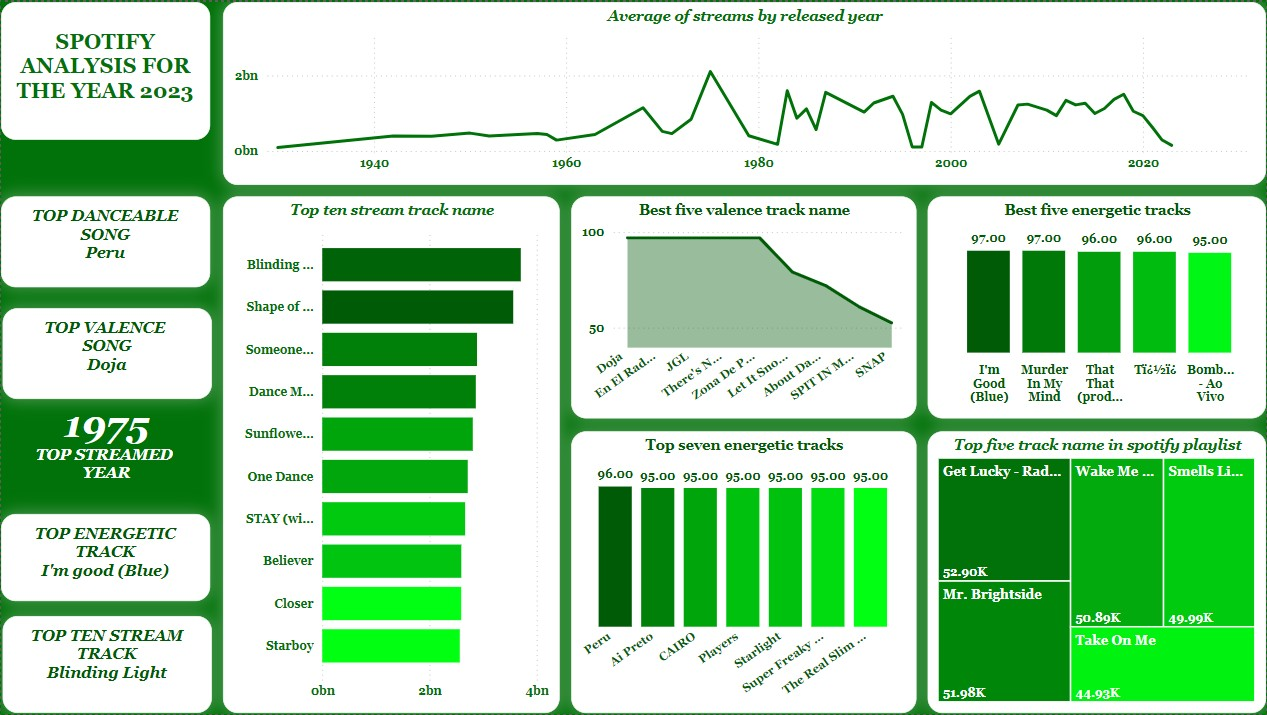

Layout of this report page (visuals, bound fields, positions):
{"tool":"powerbi","page":{"name":"Page 1","canvas":[1280,720],"ordinal":0},"visuals":[{"type":"lineChart","title":"Average of streams by released year","fields":{"Category":["spotify-2023.released_year"],"Y":["Avg(spotify-2023.streams)"]},"box":[224.6,0,1055.7,185.2],"z":0},{"type":"textbox","box":[0,0,211.5,139.3],"z":1000},{"type":"barChart","title":"Top ten stream track name","fields":{"Y":["Avg(spotify-2023.streams)"],"Category":["spotify-2023.track_name"]},"box":[224.6,196.7,341,523],"z":2000},{"type":"treemap","title":"Top five track name in spotify playlist","fields":{"Group":["spotify-2023.track_name"],"Values":["Avg(spotify-2023.in_spotify_playlists)"]},"box":[937.7,434.4,342.6,285.2],"z":3000},{"type":"columnChart","title":"Best five energetic tracks","fields":{"Category":["spotify-2023.track_name"],"Y":["Avg(spotify-2023.energy_%)"]},"box":[937.7,196.7,342.6,224.6],"z":4000},{"type":"clusteredColumnChart","title":"Top seven energetic tracks","fields":{"Category":["spotify-2023.track_name"],"Y":["Avg(spotify-2023.danceability_%)"]},"box":[577,434.4,349.2,285.2],"z":5000},{"type":"stackedAreaChart","title":"Best five valence track name","fields":{"Category":["spotify-2023.track_name"],"Y":["Avg(spotify-2023.valence_%)"]},"box":[577,196.7,349.2,224.6],"z":6000},{"type":"textbox","box":[0,196.7,211.5,91.8],"z":7000},{"type":"textbox","box":[1.6,309.8,211.5,91.8],"z":8000},{"type":"textbox","box":[0,518,211.5,88.5],"z":9000},{"type":"textbox","box":[1.6,621.3,211.5,98.4],"z":9001},{"type":"textbox","box":[1.6,401.6,209.8,116.4],"z":9002}]}

Visuals, with their boxes in screenshot pixels (x1, y1, x2, y2), scaled from the page's 1280x720 canvas onto the 1267x715 screenshot:
"Average of streams by released year" lineChart: (x1=222, y1=0, x2=1266, y2=184)
textbox: (x1=0, y1=0, x2=209, y2=138)
"Top ten stream track name" barChart: (x1=222, y1=195, x2=560, y2=714)
"Top five track name in spotify playlist" treemap: (x1=928, y1=431, x2=1266, y2=714)
"Best five energetic tracks" columnChart: (x1=928, y1=195, x2=1266, y2=418)
"Top seven energetic tracks" clusteredColumnChart: (x1=571, y1=431, x2=917, y2=714)
"Best five valence track name" stackedAreaChart: (x1=571, y1=195, x2=917, y2=418)
textbox: (x1=0, y1=195, x2=209, y2=286)
textbox: (x1=2, y1=308, x2=211, y2=399)
textbox: (x1=0, y1=514, x2=209, y2=602)
textbox: (x1=2, y1=617, x2=211, y2=714)
textbox: (x1=2, y1=399, x2=209, y2=514)
